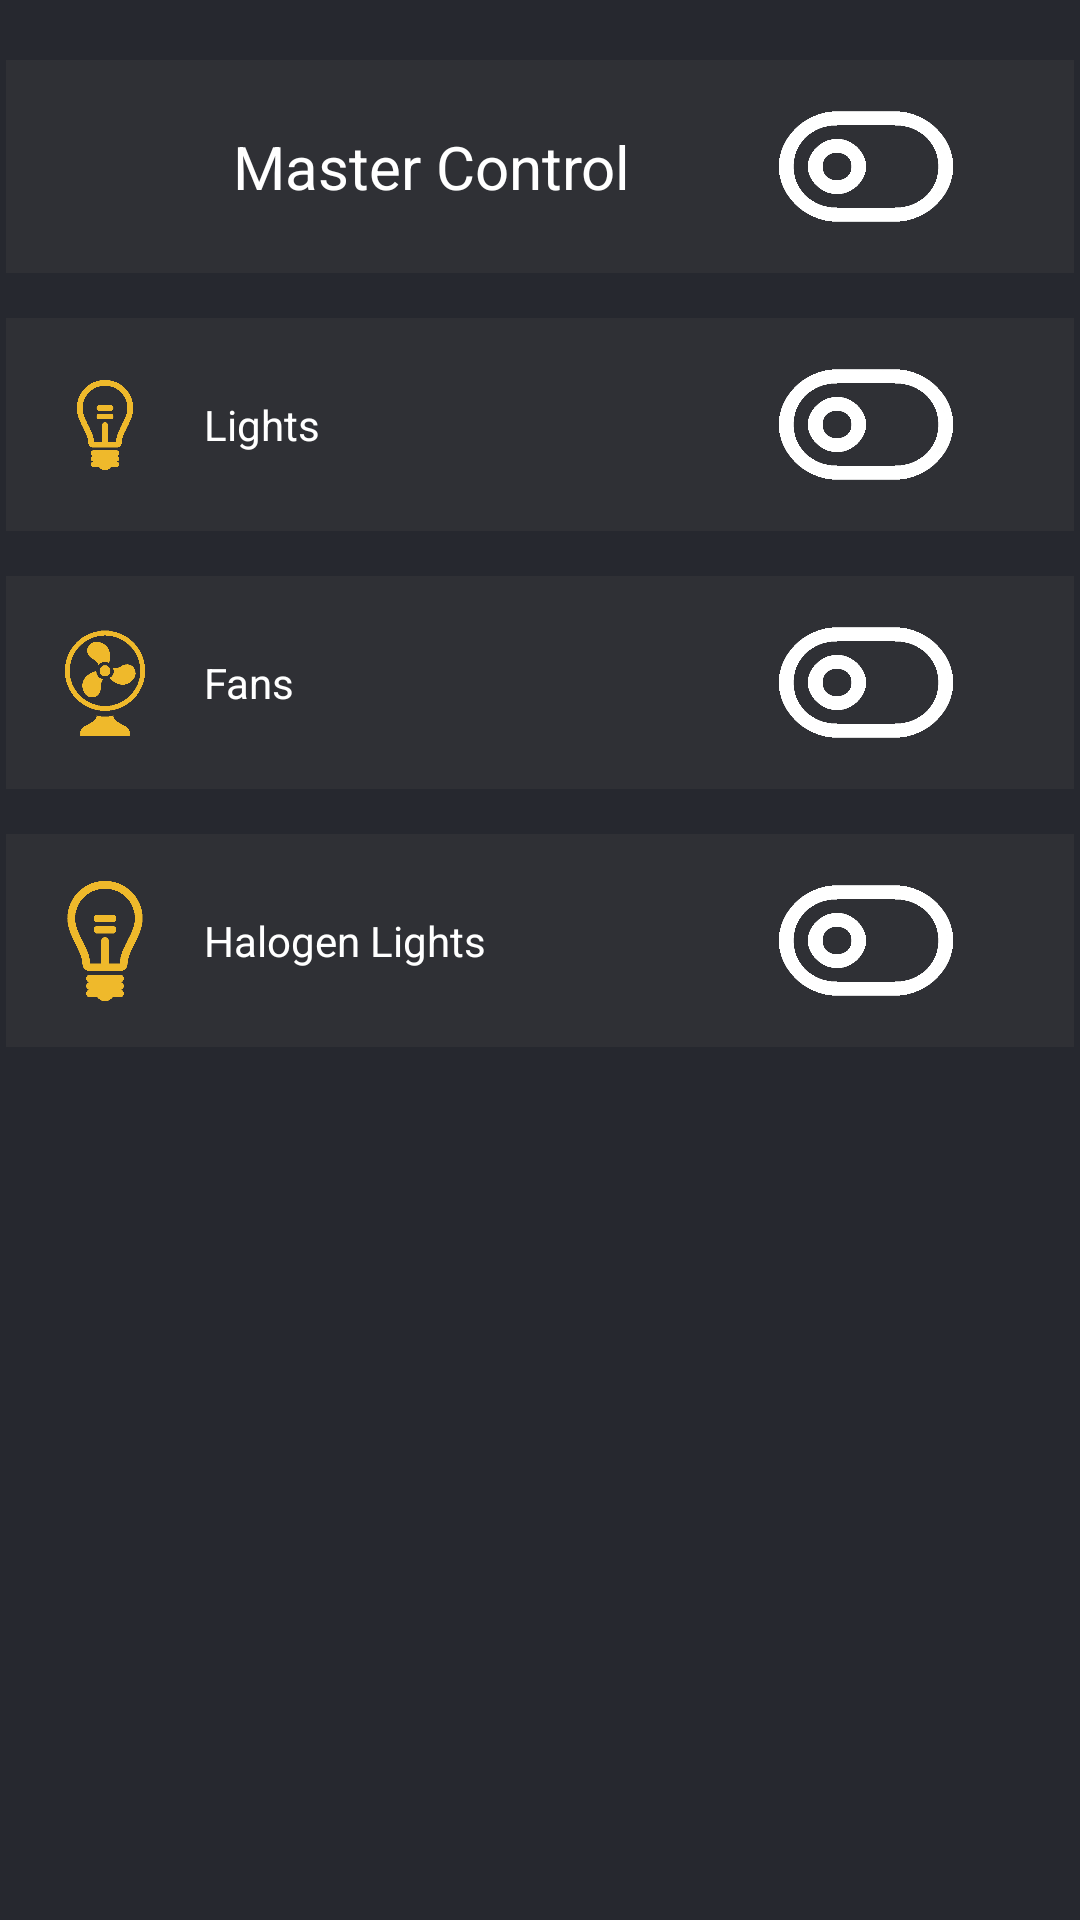

Named icons in this screenshot (1080 × 1920) and their centers, (x=x, y=y):
blub: (x=105, y=425), (x=105, y=941)
fan: (x=105, y=683)
